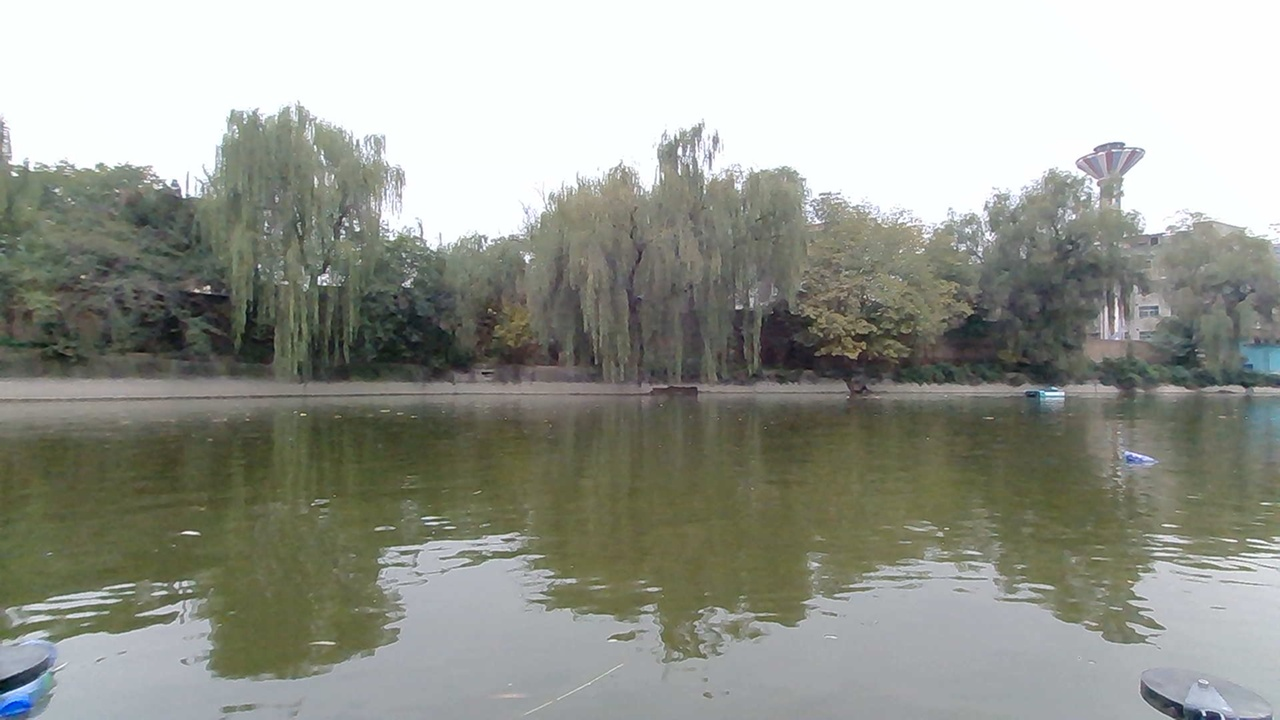bottle: (1115, 444, 1160, 478)
